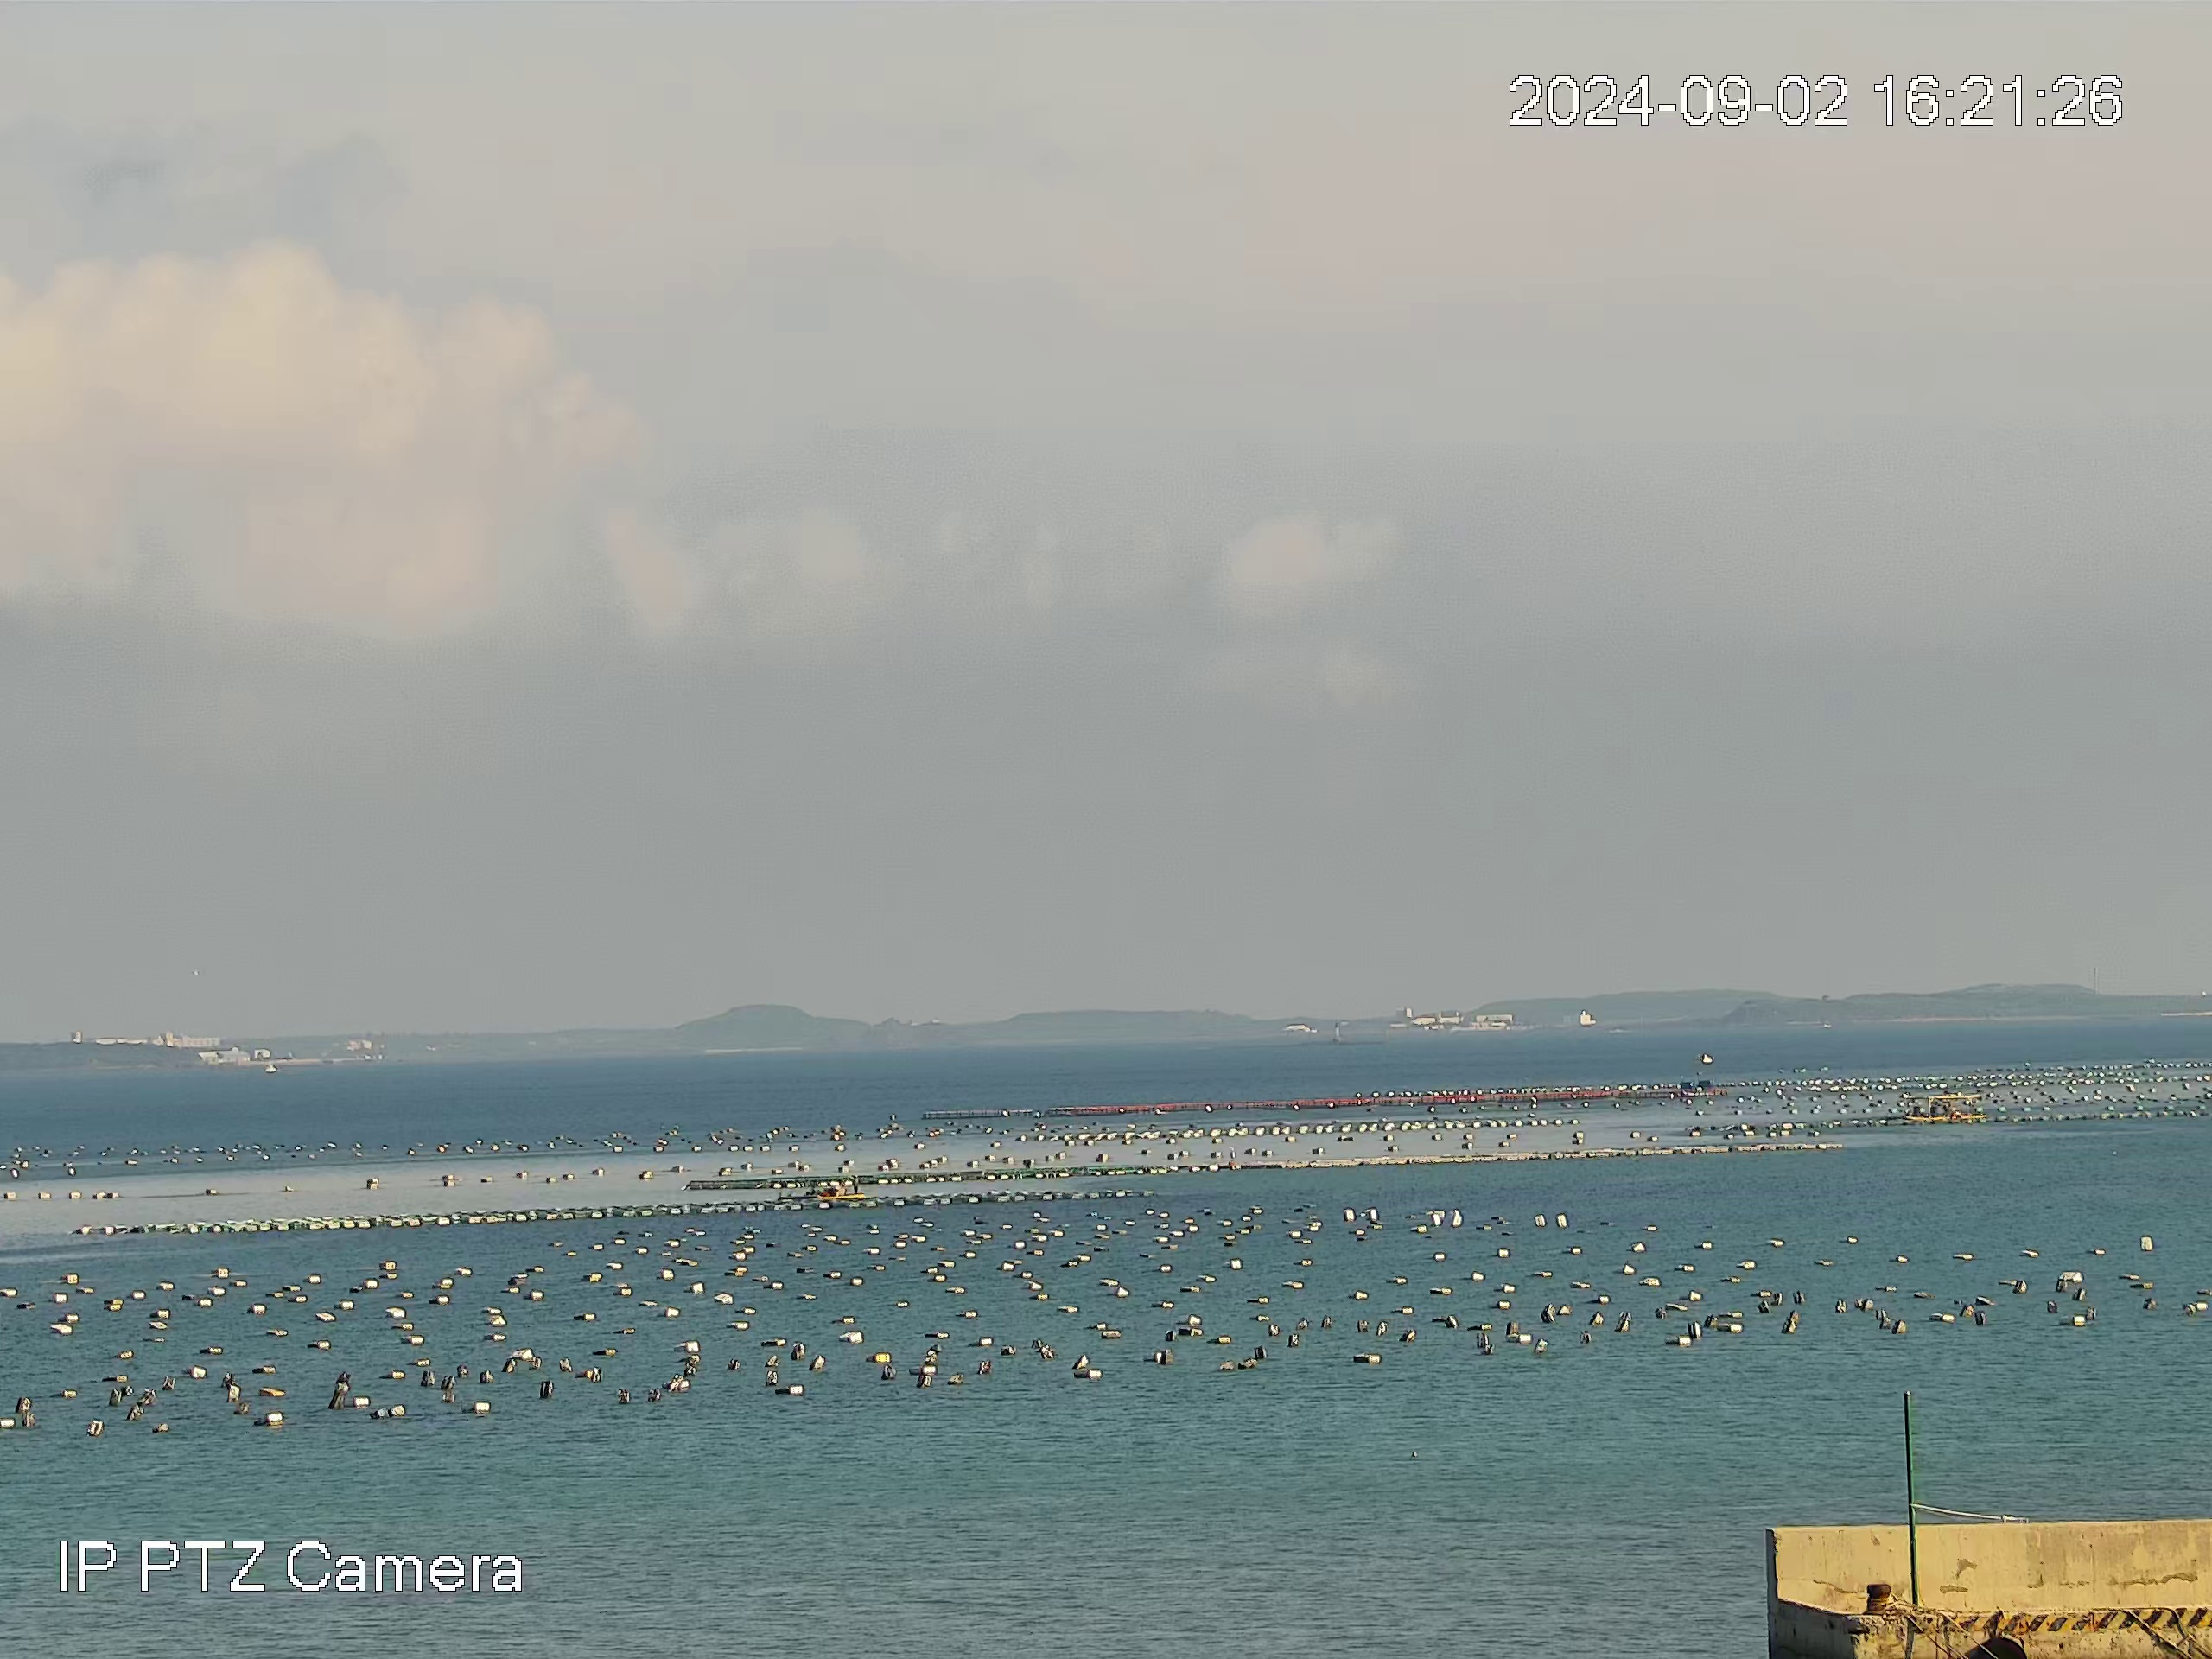boat: (1904, 1093, 1987, 1126), (773, 1183, 866, 1201)
